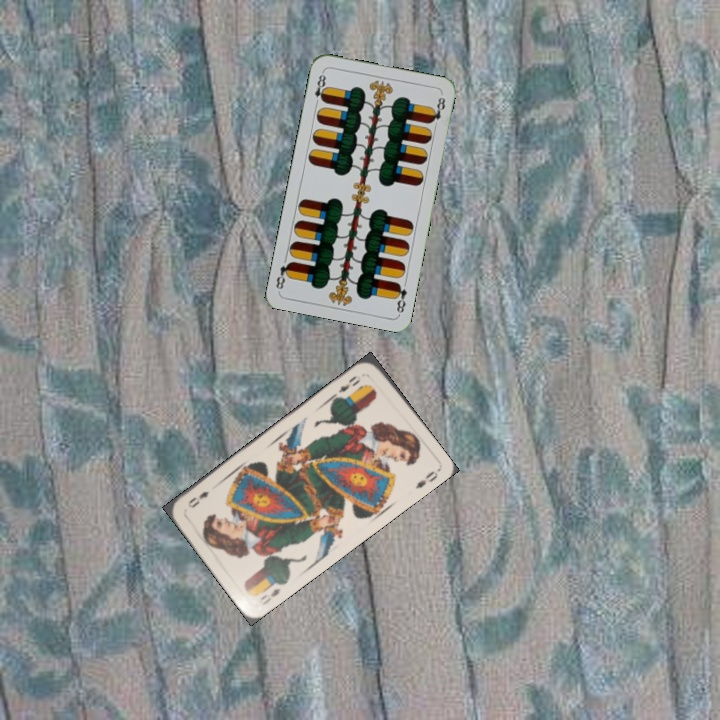E8: (310, 68, 329, 108), (391, 279, 410, 317)
EO: (334, 371, 363, 395), (256, 584, 282, 608)
